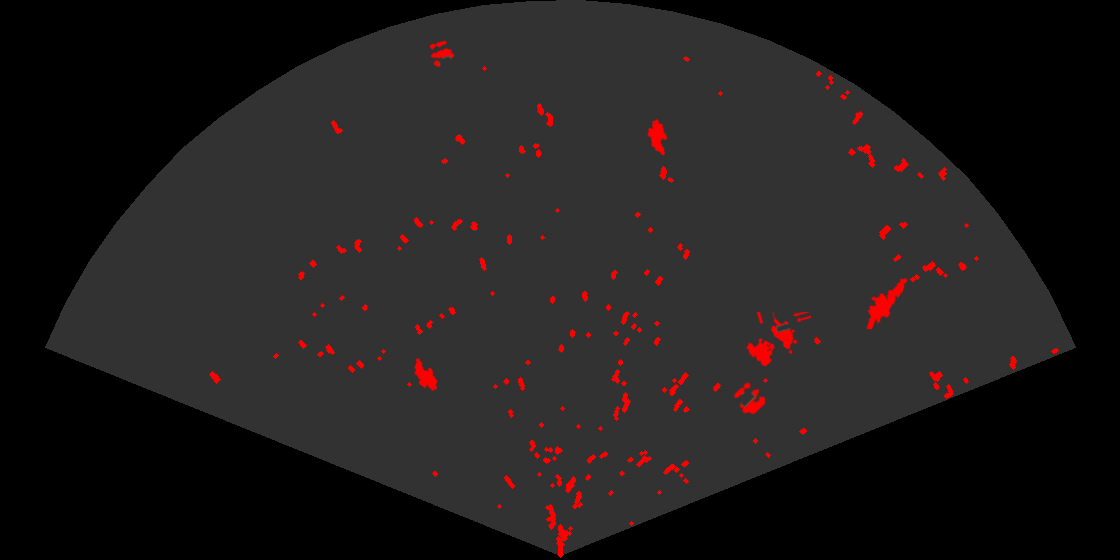AUV: (413, 356, 439, 393), (646, 117, 669, 158)
ball: (732, 381, 767, 416), (428, 39, 456, 69)
cage: (744, 312, 811, 368)
frogman: (865, 276, 909, 329)
